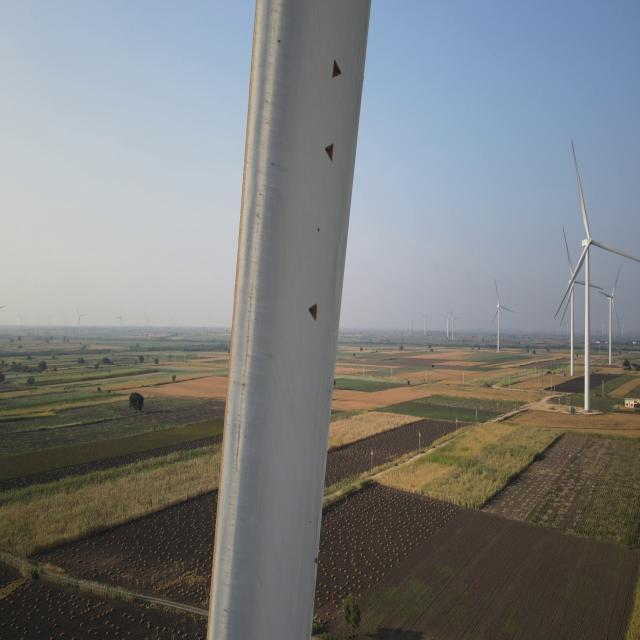Dirt: (207, 0, 282, 639)
